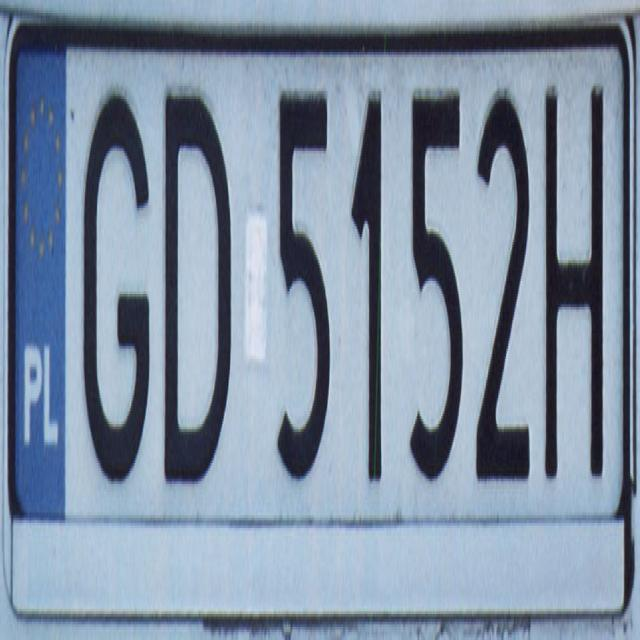pl_license_plate: (13, 41, 621, 512)
